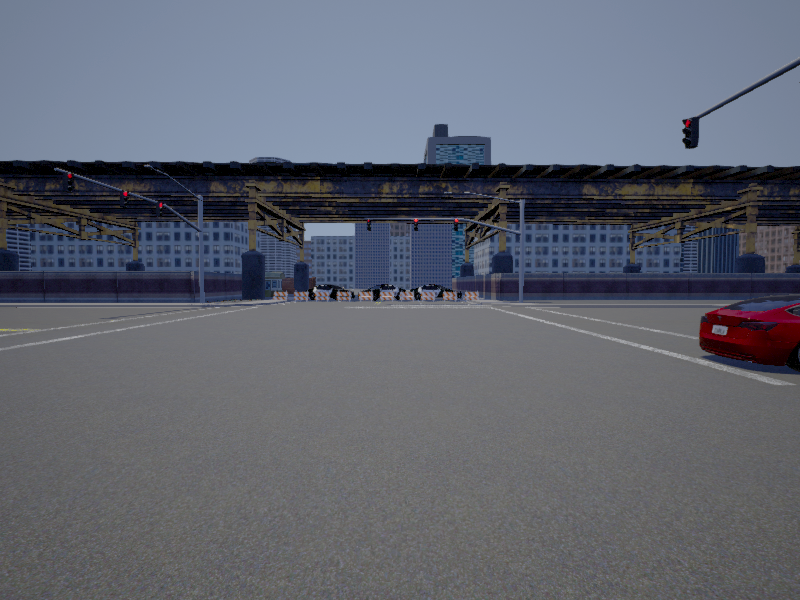Attacker: (701, 294, 800, 369)
